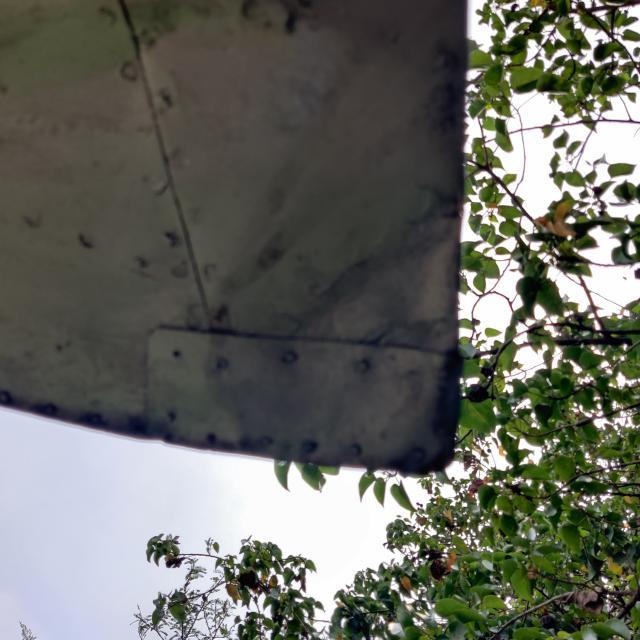dent: (273, 181, 484, 380)
